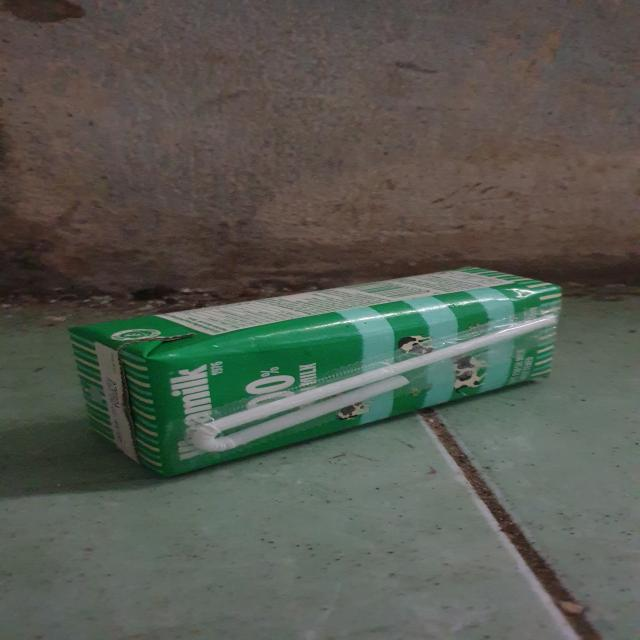Vina: (70, 265, 566, 484)
